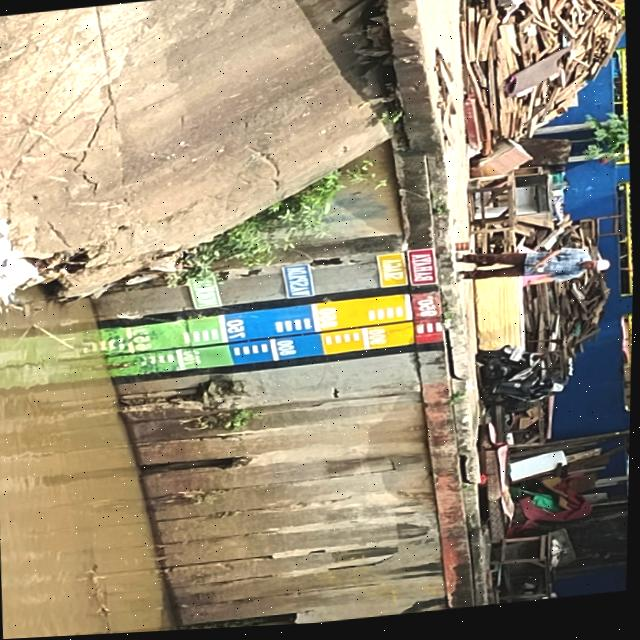water-meter: (88, 283, 454, 391)
